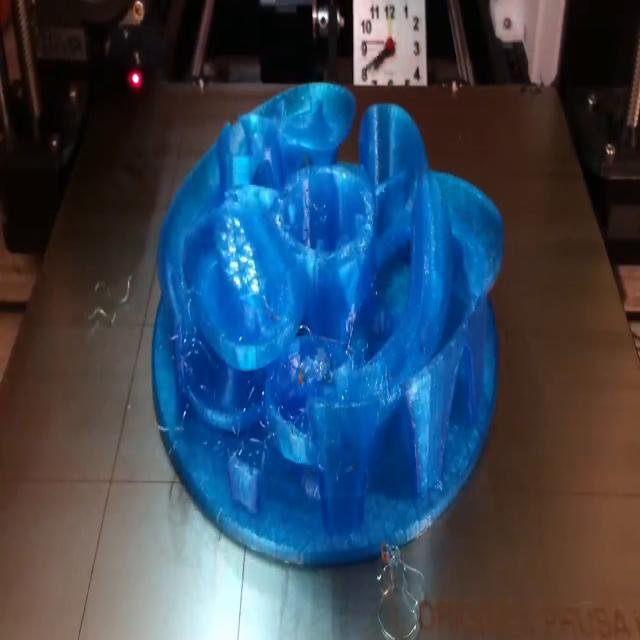spaghetti: (168, 204, 428, 522), (377, 545, 424, 640), (82, 275, 134, 336)
